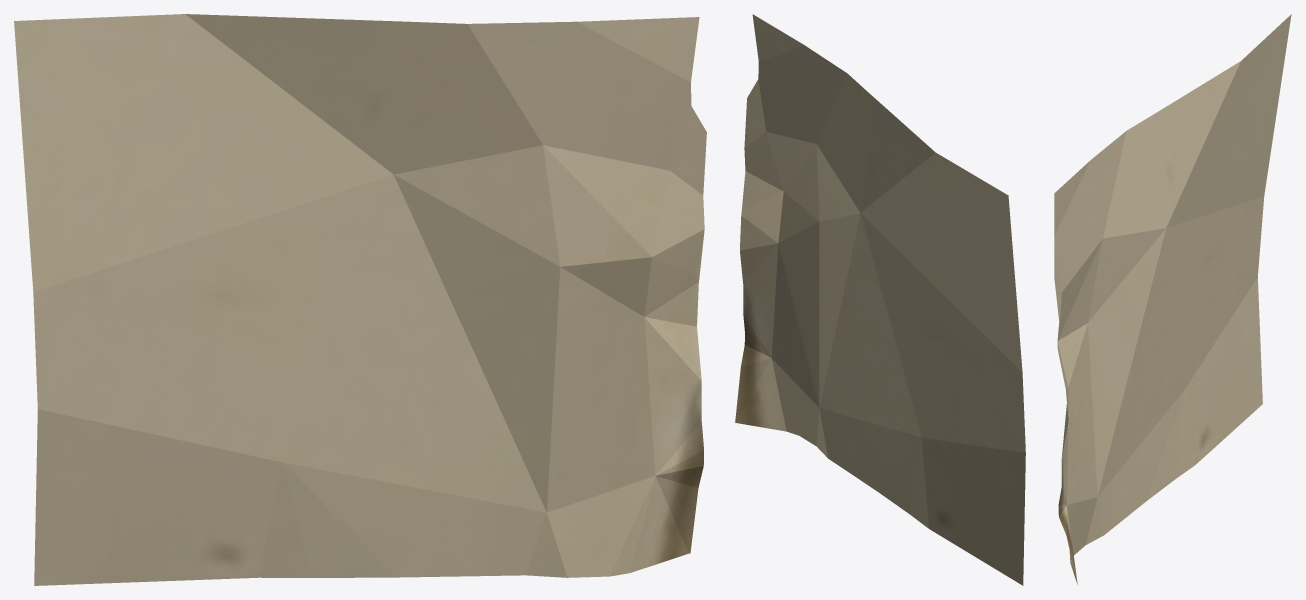
3 renders of one model, left to right at view 1: azimuth 30°, elevation 25°; view 2: azimuth 150°, elevation 25°; view 3: azimuth 270°, elevation 25°, orthographic. The views are drawn at different scales.
Bounding box in the file's own units: 0.8374 × 0.8374 × 0.4614.
Materials: 3 (3 with a texture image).
